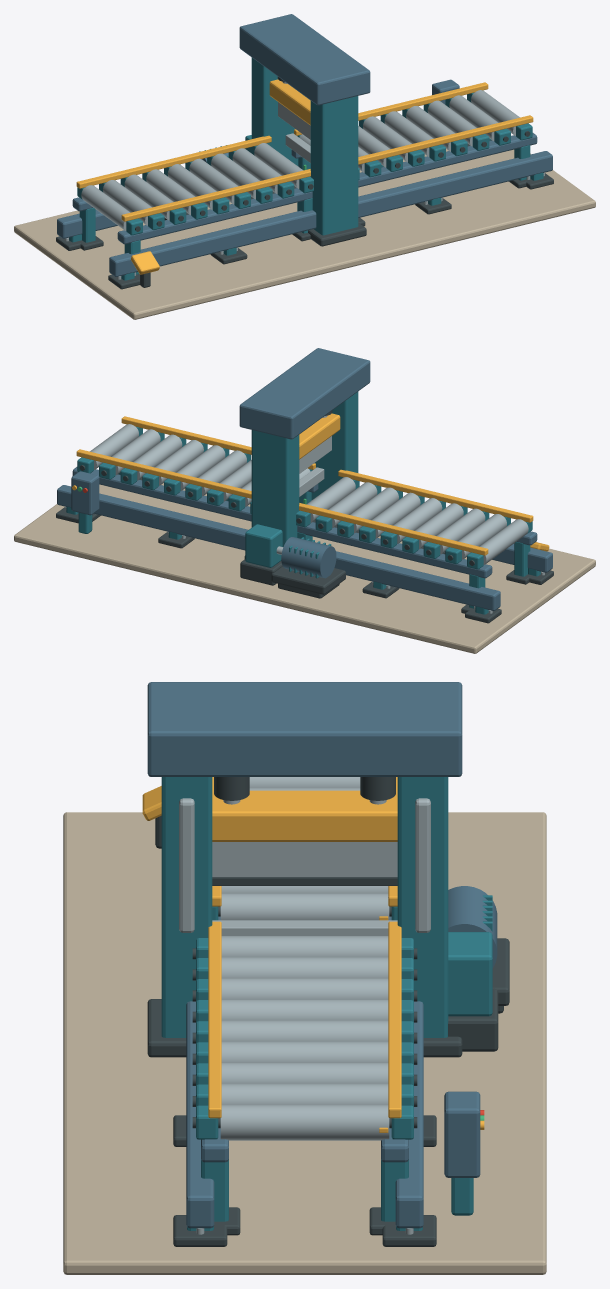
File: CS-WIRE-05-lod1.glb
3 renders of one model, top to bottom at view 1: azimuth 30°, elevation 25°; view 2: azimuth 150°, elevation 25°; view 3: azimuth 270°, elevation 25°, orthographic. The views are drawn at different scales.
Visible parts, largest first — view 1: foundation, right_bed_beam, shear_crown, right_column, left_column, entry_table_right_sill, exit_table_right_sill, entry_table_right_guard, entry_table_left_guard, exit_table_right_guard, exit_table_left_guard, blade_holder (+22 smaller); view 2: foundation, left_bed_beam, shear_crown, left_column, right_column, entry_table_left_sill, exit_table_left_sill, motor_housing, entry_table_left_guard, entry_table_right_guard, exit_table_left_guard, right_angle_gearbox (+25 smaller); view 3: foundation, shear_crown, right_column, left_column, blade_holder, upper_blade, exit_table_idler_8, entry_table_idler_8, right_angle_gearbox, exit_table_idler_6, exit_table_idler_3, exit_table_idler_4 (+28 smaller).
Boxes of the visible parts, x1,y1,x2,y2 form: foundation: (14, 149, 595, 319); right_bed_beam: (109, 151, 552, 276); shear_crown: (239, 14, 370, 105); right_column: (310, 96, 358, 235); left_column: (251, 57, 298, 165); entry_table_right_sill: (117, 188, 312, 244); exit_table_right_sill: (358, 133, 537, 187); entry_table_right_guard: (121, 169, 310, 221); entry_table_left_guard: (76, 135, 271, 188); exit_table_right_guard: (358, 115, 533, 164); exit_table_left_guard: (294, 82, 488, 135); blade_holder: (269, 79, 310, 125); foundation: (14, 483, 595, 653); left_bed_beam: (57, 485, 500, 610); shear_crown: (239, 348, 370, 439); left_column: (251, 430, 299, 546); right_column: (311, 391, 358, 499); entry_table_left_sill: (297, 522, 492, 578); exit_table_left_sill: (72, 467, 251, 521); motor_housing: (281, 537, 336, 578); entry_table_left_guard: (299, 503, 488, 555); entry_table_right_guard: (338, 469, 533, 522); exit_table_left_guard: (76, 449, 251, 498); right_angle_gearbox: (245, 524, 282, 567); foundation: (63, 812, 546, 1274); shear_crown: (147, 682, 462, 776); right_column: (161, 777, 212, 1037); left_column: (397, 777, 448, 1037); blade_holder: (212, 790, 397, 841); upper_blade: (212, 842, 397, 876); exit_table_idler_8: (220, 1104, 389, 1140); entry_table_idler_8: (220, 893, 389, 920); right_angle_gearbox: (448, 932, 492, 1016); exit_table_idler_6: (221, 1062, 388, 1083); exit_table_idler_3: (221, 999, 388, 1020); exit_table_idler_4: (221, 1020, 388, 1041).
Size of the model in its own units: 9.5 by 3.4 by 4.3.
